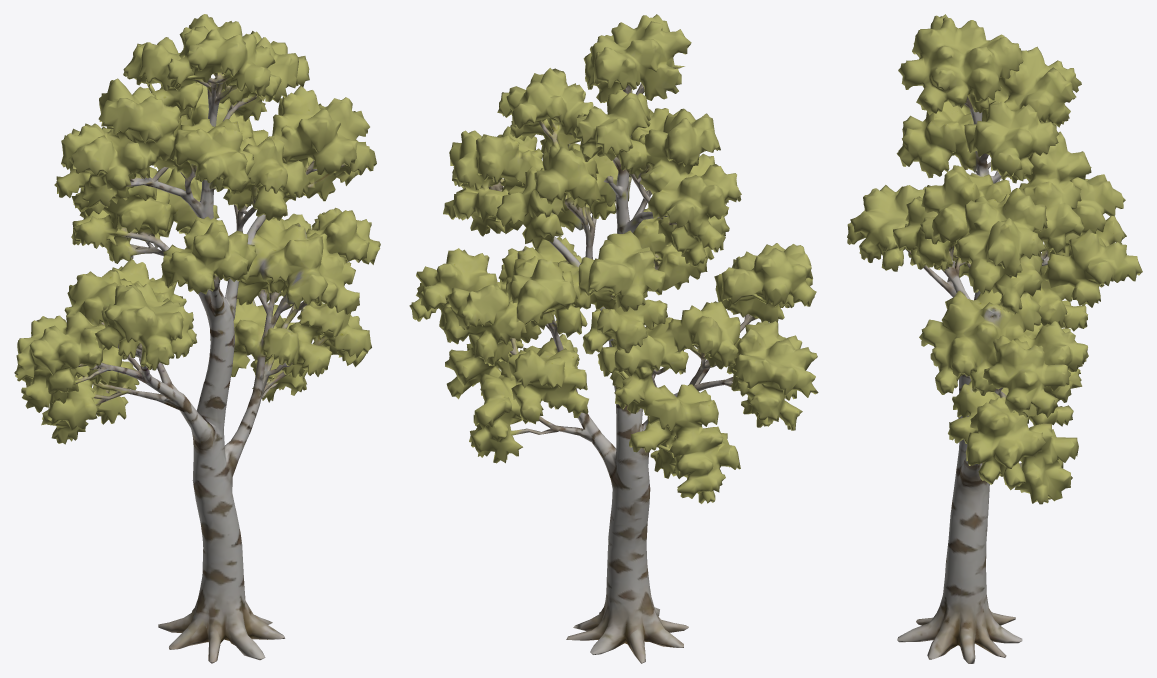
Rendered from nat_tree_birch_v1.glb.
3 views of the same model, side by side, from view 1: azimuth 30°, elevation 25°; view 2: azimuth 150°, elevation 25°; view 3: azimuth 270°, elevation 25° (orthographic).
Visible parts, largest first — view 1: tripo_node_2d9ea7b2-808e-4ddc-b6e5-fc07280964cb; view 2: tripo_node_2d9ea7b2-808e-4ddc-b6e5-fc07280964cb; view 3: tripo_node_2d9ea7b2-808e-4ddc-b6e5-fc07280964cb.
Part boxes in pixels (left/top/right/bottom): tripo_node_2d9ea7b2-808e-4ddc-b6e5-fc07280964cb: left=14, top=14, right=380, bottom=663; tripo_node_2d9ea7b2-808e-4ddc-b6e5-fc07280964cb: left=409, top=14, right=818, bottom=663; tripo_node_2d9ea7b2-808e-4ddc-b6e5-fc07280964cb: left=847, top=14, right=1142, bottom=663.
Size of the model in its own units: 0.6331 by 0.979 by 0.428.
Materials: 1 (1 with a texture image).
